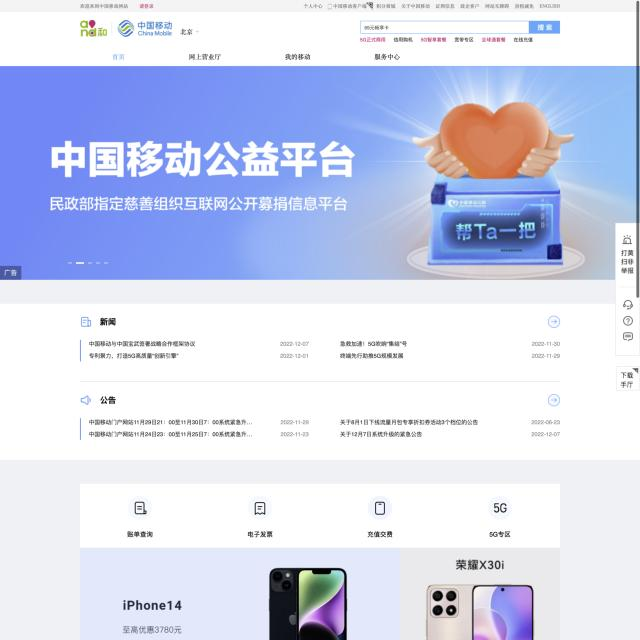input: (359, 21, 560, 35)
logo: (76, 17, 176, 40)
navigation: (0, 0, 636, 12), (99, 49, 417, 65), (359, 36, 535, 44)
